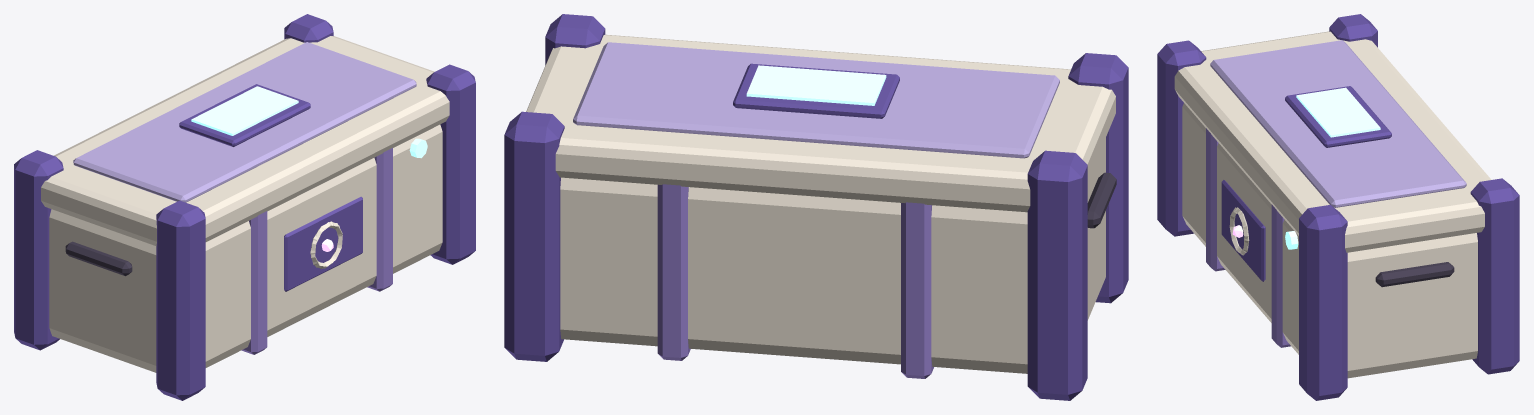
Rendered from MOONSHIFT_ITM_Crate_Research_Large_2Tile.glb.
3 views of the same model, side by side, from view 1: azimuth 30°, elevation 25°; view 2: azimuth 150°, elevation 25°; view 3: azimuth 270°, elevation 25° (orthographic). The views are drawn at different scales.
Visible parts, largest first — view 1: Crate_Research_Large_2Tile_Body, Crate_Research_Large_2Tile_Lid, Crate_Research_Large_2Tile_LidTop, Crate_Research_Large_2Tile_Corner00, Crate_Research_Large_2Tile_Corner01, Crate_Research_Large_2Tile_Corner10, Crate_Research_Large_2Tile_Label, Crate_Research_Large_2Tile_Window, Crate_Research_Large_2Tile_Band0, Crate_Research_Large_2Tile_Band1, Crate_Research_Large_2Tile_WindowFrame, Crate_Research_Large_2Tile_Handle_A (+2 smaller); view 2: Crate_Research_Large_2Tile_Body, Crate_Research_Large_2Tile_Lid, Crate_Research_Large_2Tile_LidTop, Crate_Research_Large_2Tile_Corner01, Crate_Research_Large_2Tile_Corner11, Crate_Research_Large_2Tile_Corner00, Crate_Research_Large_2Tile_Band1, Crate_Research_Large_2Tile_Band0, Crate_Research_Large_2Tile_Window, Crate_Research_Large_2Tile_WindowFrame, Crate_Research_Large_2Tile_Corner10, Crate_Research_Large_2Tile_Handle_A; view 3: Crate_Research_Large_2Tile_Body, Crate_Research_Large_2Tile_Lid, Crate_Research_Large_2Tile_LidTop, Crate_Research_Large_2Tile_Corner10, Crate_Research_Large_2Tile_Corner11, Crate_Research_Large_2Tile_Corner00, Crate_Research_Large_2Tile_Window, Crate_Research_Large_2Tile_Label, Crate_Research_Large_2Tile_WindowFrame, Crate_Research_Large_2Tile_Band1, Crate_Research_Large_2Tile_Band0, Crate_Research_Large_2Tile_Handle_B (+2 smaller).
Boxes of the visible parts, x1,y1,x2,y2 form: Crate_Research_Large_2Tile_Body: (49, 124, 442, 372); Crate_Research_Large_2Tile_Lid: (41, 36, 449, 246); Crate_Research_Large_2Tile_LidTop: (73, 42, 416, 202); Crate_Research_Large_2Tile_Corner00: (156, 200, 205, 400); Crate_Research_Large_2Tile_Corner01: (14, 150, 63, 350); Crate_Research_Large_2Tile_Corner10: (426, 64, 475, 264); Crate_Research_Large_2Tile_Label: (284, 196, 362, 291); Crate_Research_Large_2Tile_Window: (191, 86, 298, 135); Crate_Research_Large_2Tile_Band0: (241, 211, 267, 354); Crate_Research_Large_2Tile_Band1: (367, 148, 392, 291); Crate_Research_Large_2Tile_WindowFrame: (179, 84, 310, 146); Crate_Research_Large_2Tile_Handle_A: (65, 241, 132, 276); Crate_Research_Large_2Tile_Body: (560, 138, 1105, 373); Crate_Research_Large_2Tile_Lid: (526, 34, 1115, 212); Crate_Research_Large_2Tile_LidTop: (573, 42, 1059, 158); Crate_Research_Large_2Tile_Corner01: (1027, 150, 1087, 400); Crate_Research_Large_2Tile_Corner11: (504, 111, 564, 361); Crate_Research_Large_2Tile_Corner00: (1068, 53, 1128, 303); Crate_Research_Large_2Tile_Band1: (657, 184, 690, 360); Crate_Research_Large_2Tile_Band0: (901, 202, 933, 378); Crate_Research_Large_2Tile_Window: (746, 65, 886, 105); Crate_Research_Large_2Tile_WindowFrame: (733, 63, 899, 118); Crate_Research_Large_2Tile_Corner10: (545, 14, 605, 64); Crate_Research_Large_2Tile_Handle_A: (1087, 172, 1116, 228); Crate_Research_Large_2Tile_Body: (1182, 103, 1477, 378); Crate_Research_Large_2Tile_Lid: (1174, 31, 1491, 252); Crate_Research_Large_2Tile_LidTop: (1210, 40, 1466, 207); Crate_Research_Large_2Tile_Corner10: (1299, 205, 1347, 400); Crate_Research_Large_2Tile_Corner11: (1470, 178, 1519, 374); Crate_Research_Large_2Tile_Corner00: (1157, 40, 1206, 236); Crate_Research_Large_2Tile_Window: (1296, 87, 1380, 137); Crate_Research_Large_2Tile_Label: (1221, 180, 1265, 281); Crate_Research_Large_2Tile_WindowFrame: (1285, 86, 1391, 147); Crate_Research_Large_2Tile_Band1: (1271, 204, 1290, 347); Crate_Research_Large_2Tile_Band0: (1206, 128, 1225, 271); Crate_Research_Large_2Tile_Handle_B: (1375, 262, 1454, 287).
Size of the model in its own units: 2.08 by 0.86 by 1.51.
